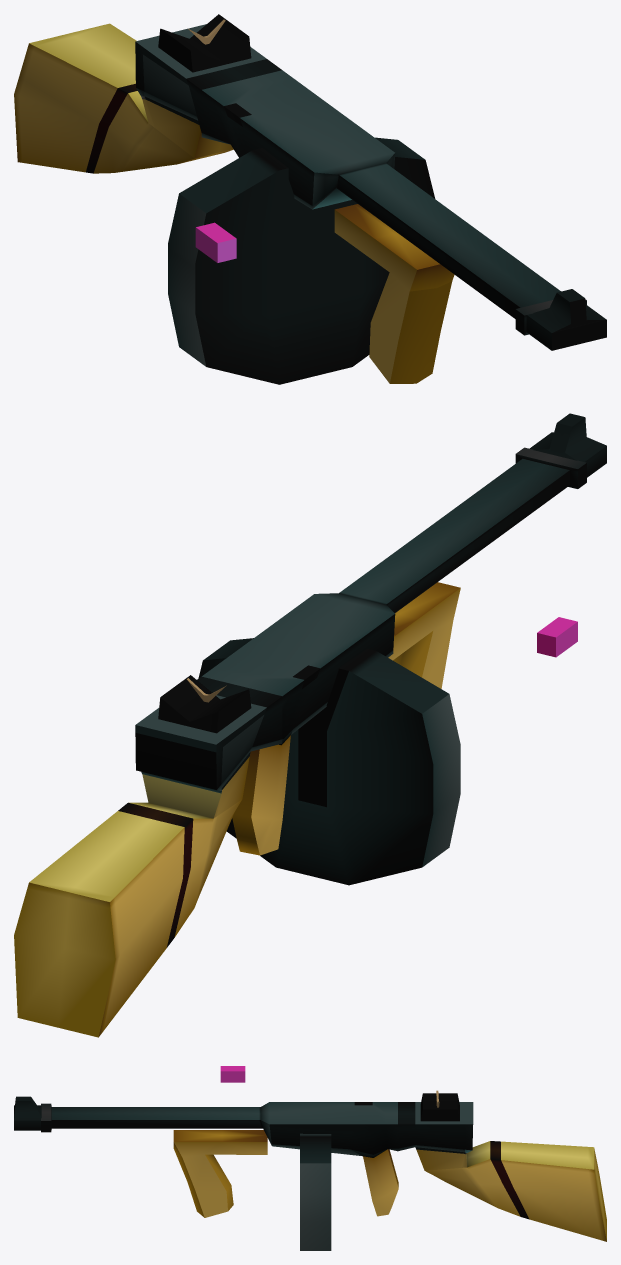
File: tommyGun.fbx
3 renders of one model, top to bottom at view 1: azimuth 30°, elevation 25°; view 2: azimuth 150°, elevation 25°; view 3: azimuth 270°, elevation 25°, orthographic. The views are drawn at different scales.
Visible parts, largest first — view 1: polySurface30, pCube6; view 2: polySurface30, pCube6; view 3: polySurface30, pCube6.
Boxes of the visible parts, bbox=[...] form: polySurface30: bbox=[14, 14, 606, 384]; pCube6: bbox=[195, 222, 236, 262]; polySurface30: bbox=[14, 413, 606, 1037]; pCube6: bbox=[537, 617, 577, 657]; polySurface30: bbox=[14, 1090, 606, 1250]; pCube6: bbox=[220, 1066, 245, 1082].
Size of the model in its own units: 37.71 by 32.47 by 118.
